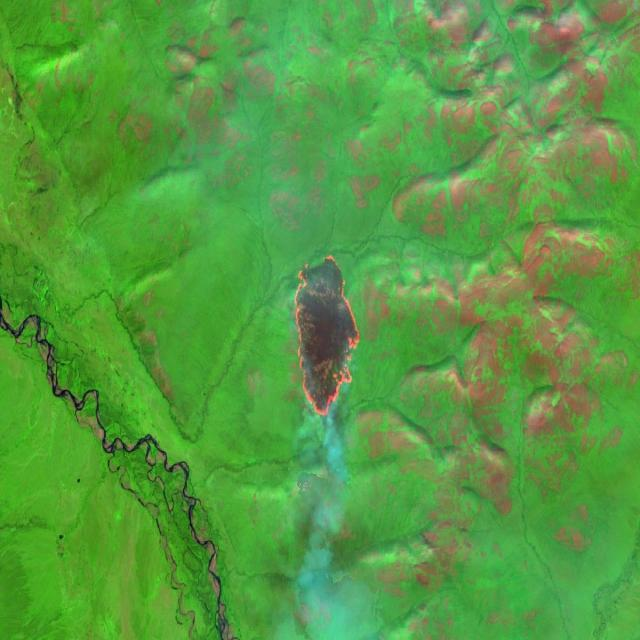fire: (291, 248, 365, 426)
